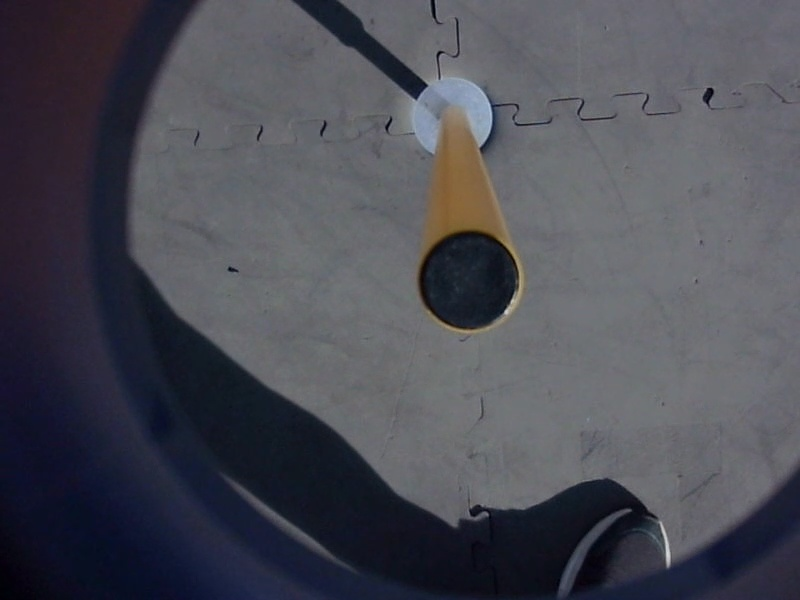tip: (412, 223, 528, 339)
